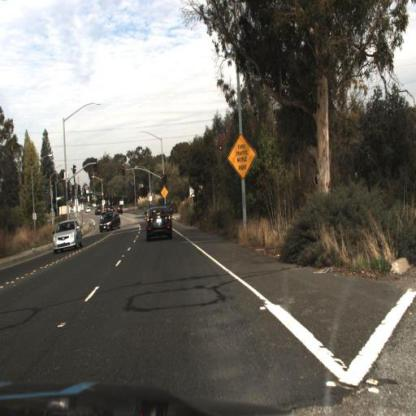car: (50, 211, 84, 257), (54, 219, 84, 255), (147, 203, 175, 239), (98, 211, 126, 235), (100, 210, 122, 233)
trafficLight-Red: (120, 161, 128, 184), (159, 171, 167, 189)
